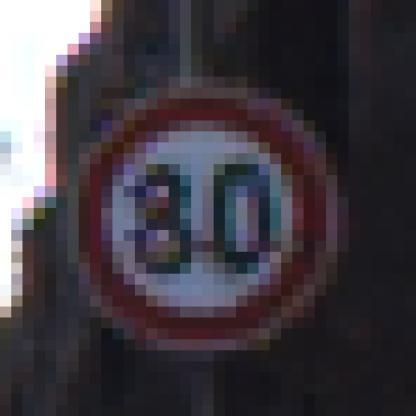Speed Limit -80-: (74, 64, 373, 367)
